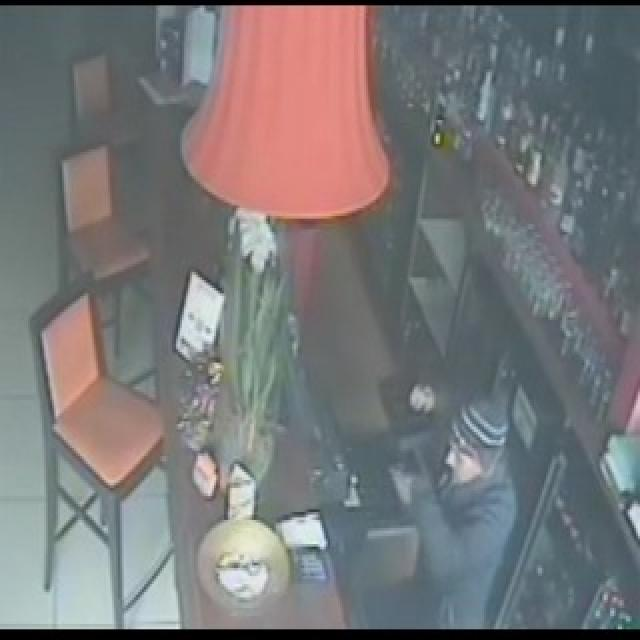thief: (408, 394, 510, 550)
